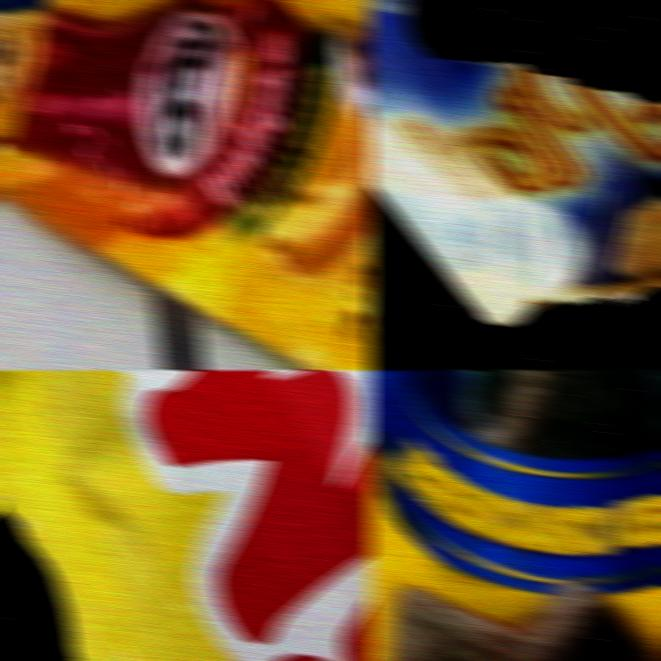Tomi: (0, 370, 374, 661)
ketchup UFC: (0, 0, 373, 370)
piattos cheese: (366, 0, 661, 325)
pillows: (366, 370, 661, 661)
